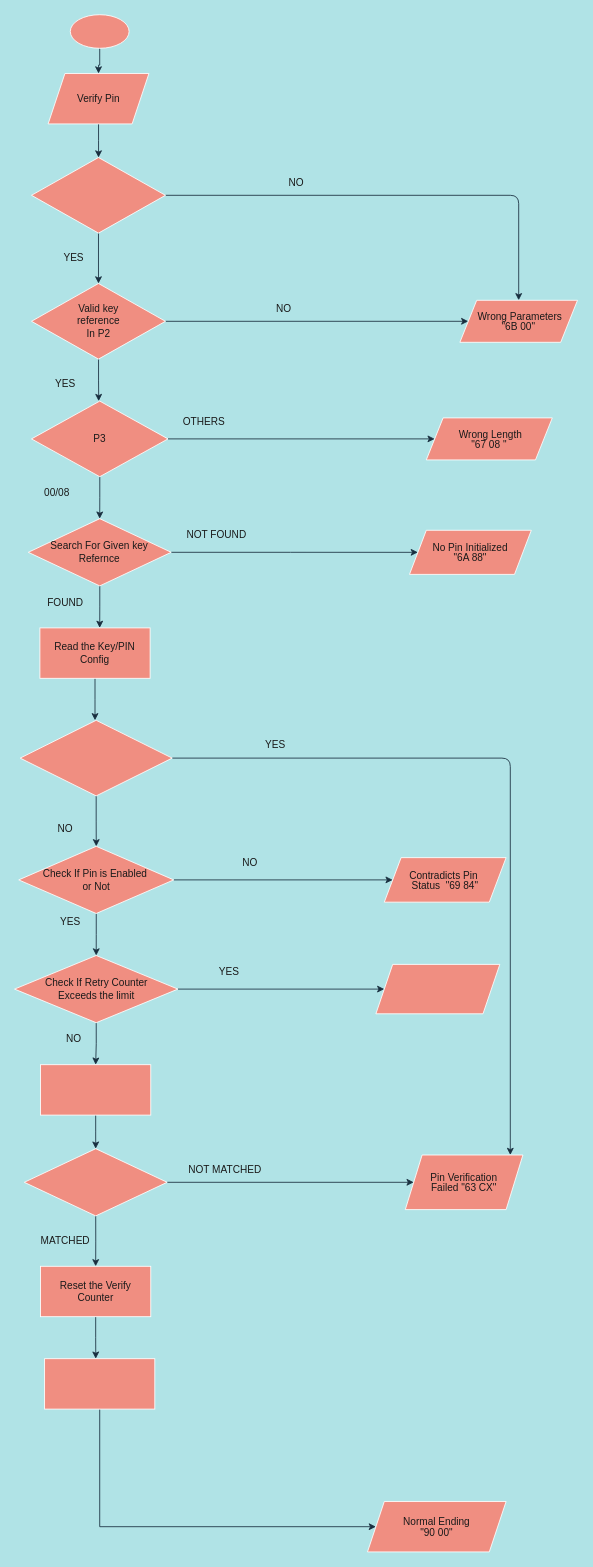
Some shapes in this 593 by 1567 pixel diagram are drawn without their labels. Here are the shapes that lost their labels. From the top down, the box of each, then its label:
(69, 14, 129, 48): Start
(31, 157, 165, 233): P1=00
(19, 719, 172, 796): P3 == 00
(375, 964, 500, 1014): Pin Blocked "69 83"
(40, 1064, 151, 1115): Decrement the Retry Counter
(23, 1148, 167, 1216): Verify the Presented Pin
(44, 1358, 155, 1409): Mark the requested PIN as verified
